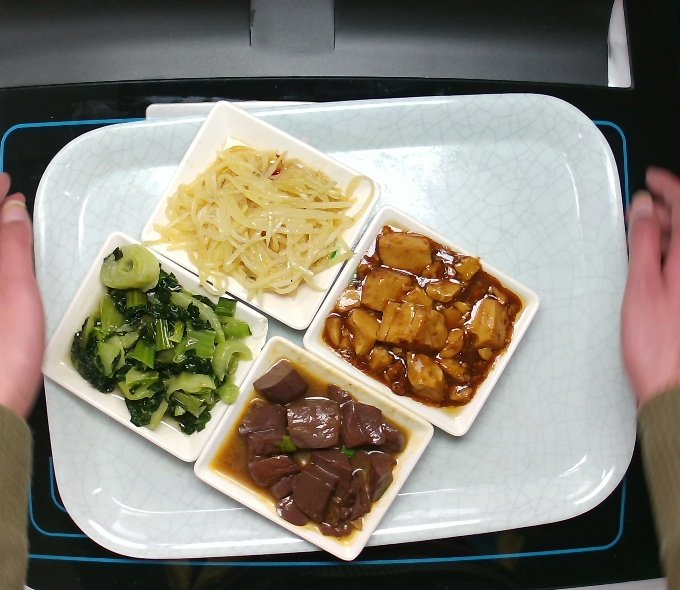wcq-MaPoDouFu: (320, 221, 521, 427)
wcq-NiuXue: (216, 346, 417, 552)
wcq-TuDouSi: (154, 130, 380, 305)
wcq-YouDongCai: (53, 234, 254, 440)
